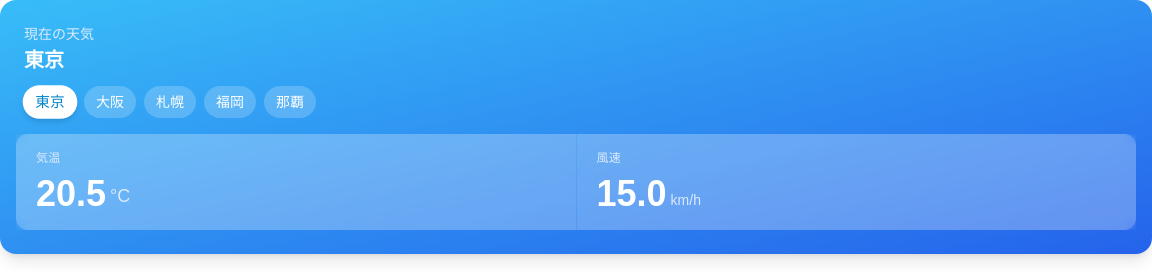
Test: CurrentWeather › 都市切り替え後にヘッダーが新しい都市名に変わる
The image size is (1152, 280).
Step 1. Click the button "札幌" → (170, 102), box x1=144 y1=86 x2=196 y2=118
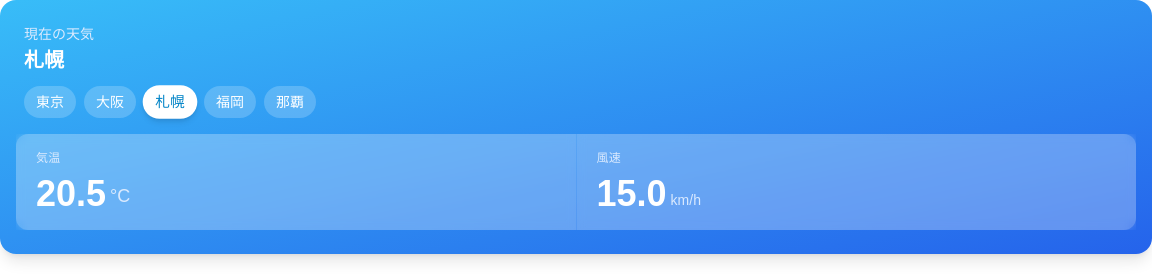
Result: the heading reads "札幌" at x1=24 y1=49 x2=64 y2=71
